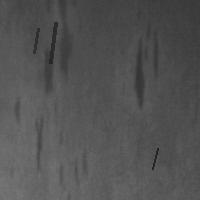inclusion: (129, 19, 162, 114), (53, 1, 77, 83), (54, 147, 92, 193), (30, 114, 52, 176), (34, 46, 57, 97), (9, 94, 25, 127), (48, 20, 57, 65), (32, 26, 40, 55), (150, 146, 159, 171)
